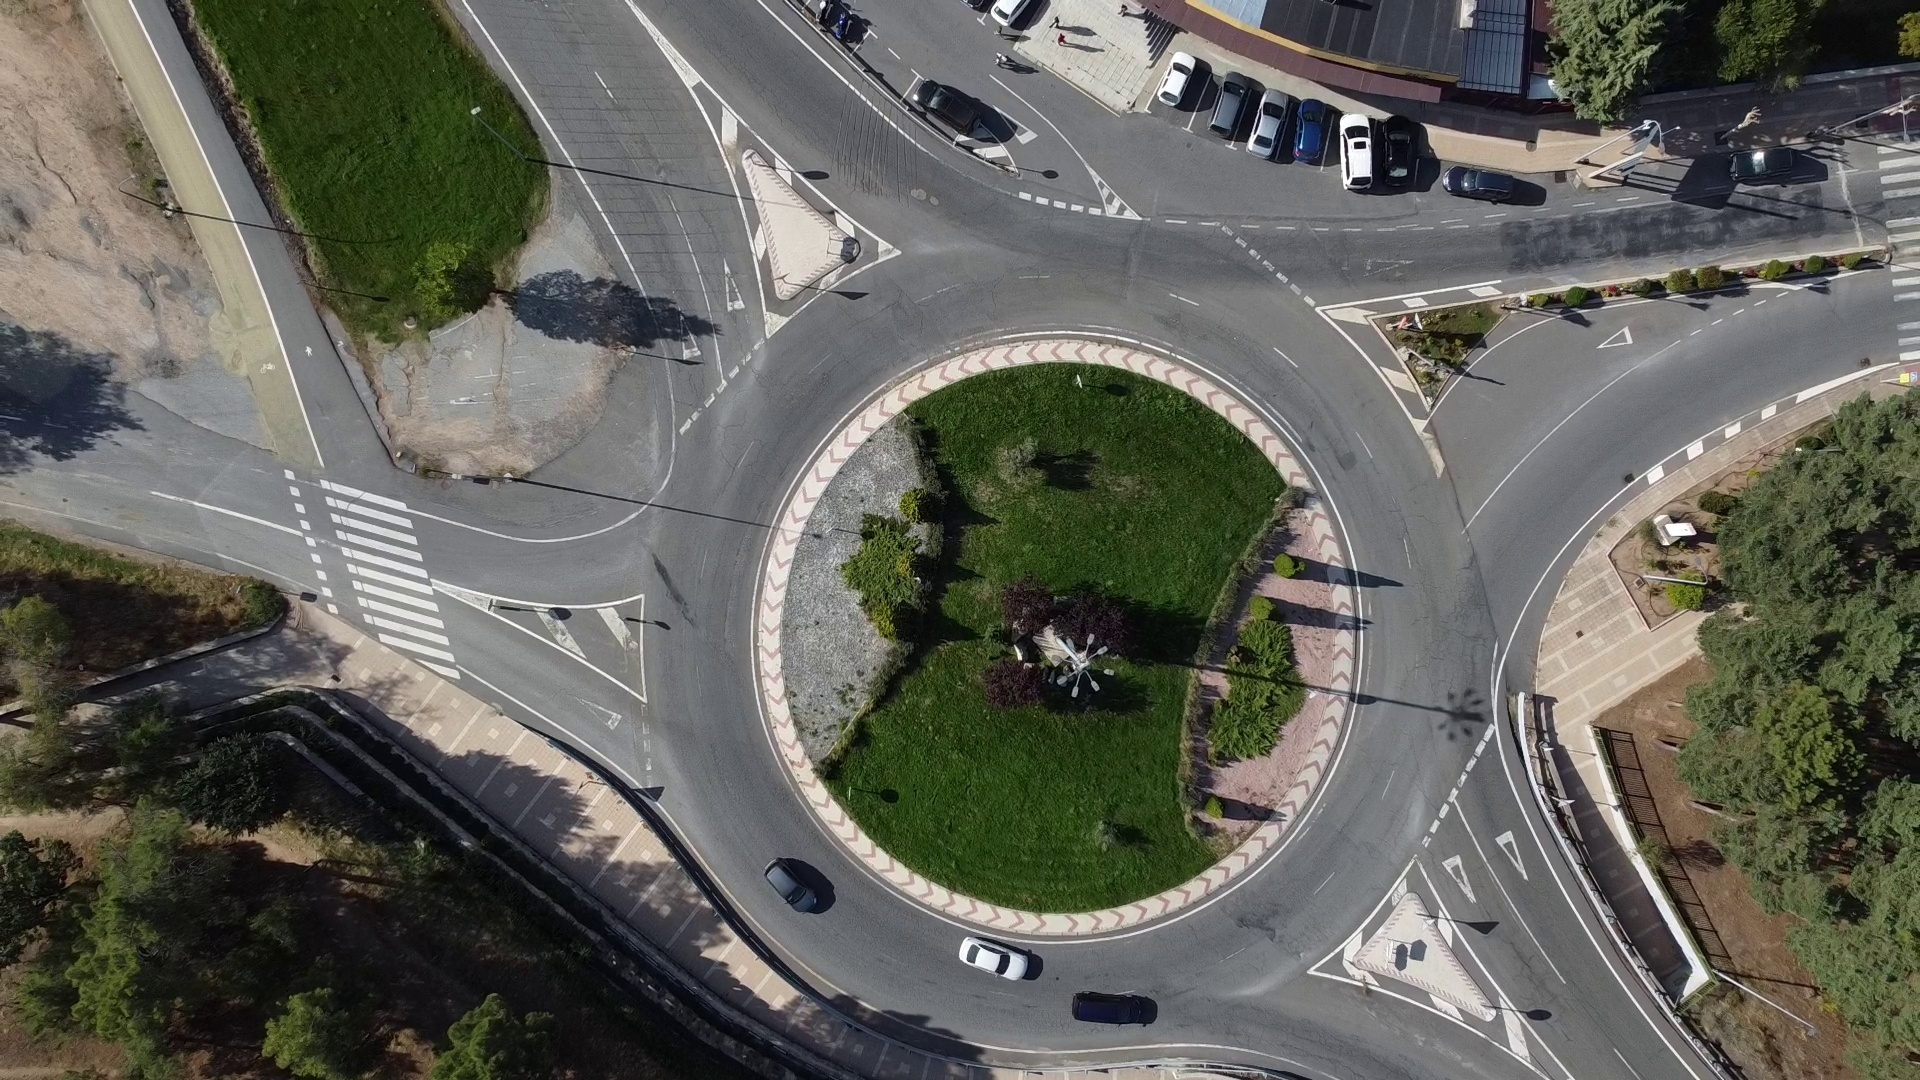cycle: (833, 11, 851, 42), (815, 1, 828, 26)
vehicle: (914, 76, 980, 136), (955, 934, 1026, 984), (1242, 87, 1290, 161), (758, 855, 818, 913), (1338, 109, 1374, 193), (1203, 74, 1247, 140), (1437, 164, 1516, 200), (1378, 119, 1418, 189), (1288, 96, 1328, 165), (1724, 144, 1795, 179), (1154, 50, 1196, 109), (1069, 992, 1143, 1025), (989, 1, 1034, 32)
